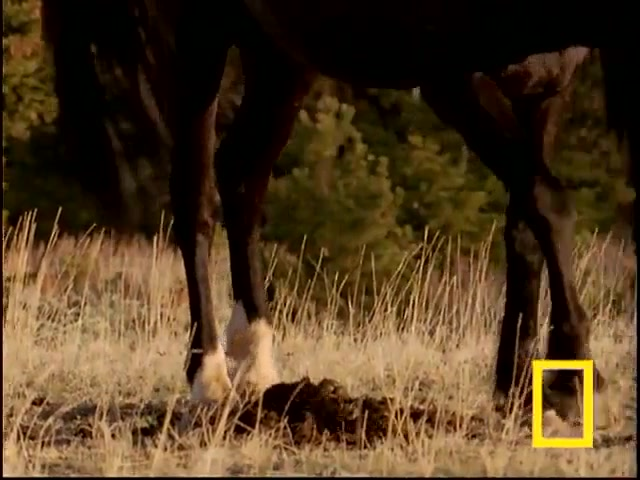horse: (41, 3, 640, 431)
